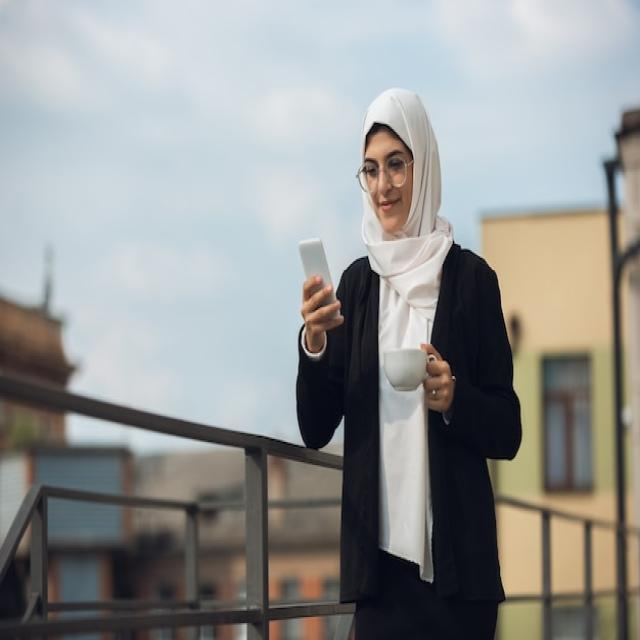Person: (296, 88, 522, 640)
